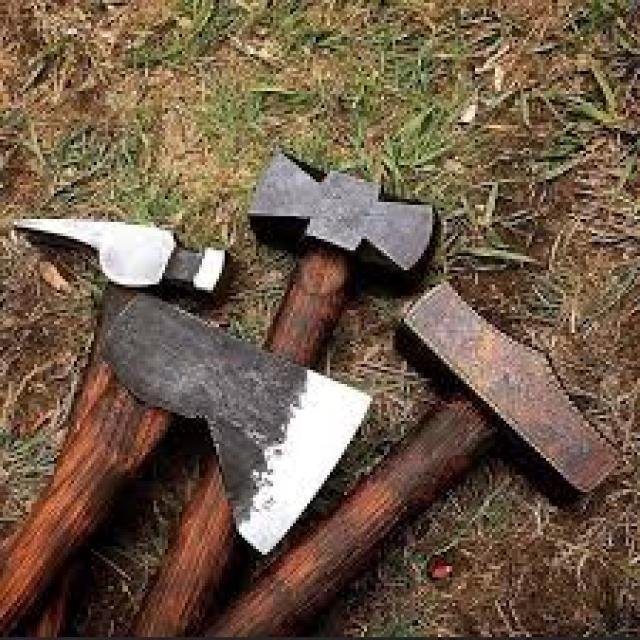hammer: (195, 279, 628, 640), (212, 133, 454, 640), (5, 173, 227, 640)
